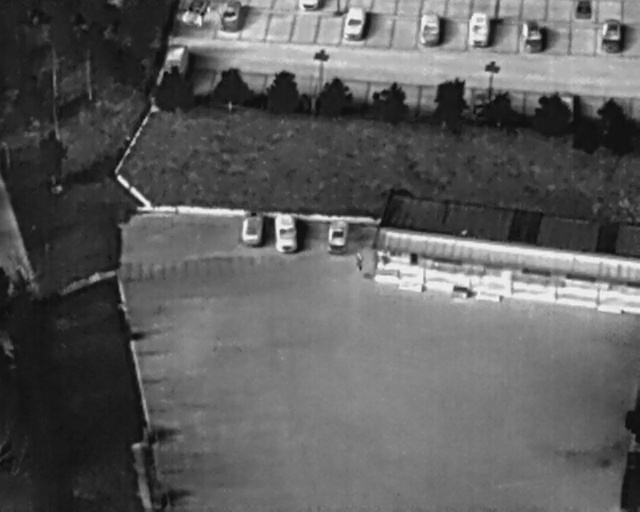Car: (326, 216, 351, 258), (520, 16, 546, 56), (341, 4, 368, 42), (275, 211, 298, 254), (467, 9, 490, 47), (602, 18, 623, 54), (242, 211, 261, 248), (421, 11, 440, 47), (183, 0, 209, 26), (219, 2, 241, 32)
